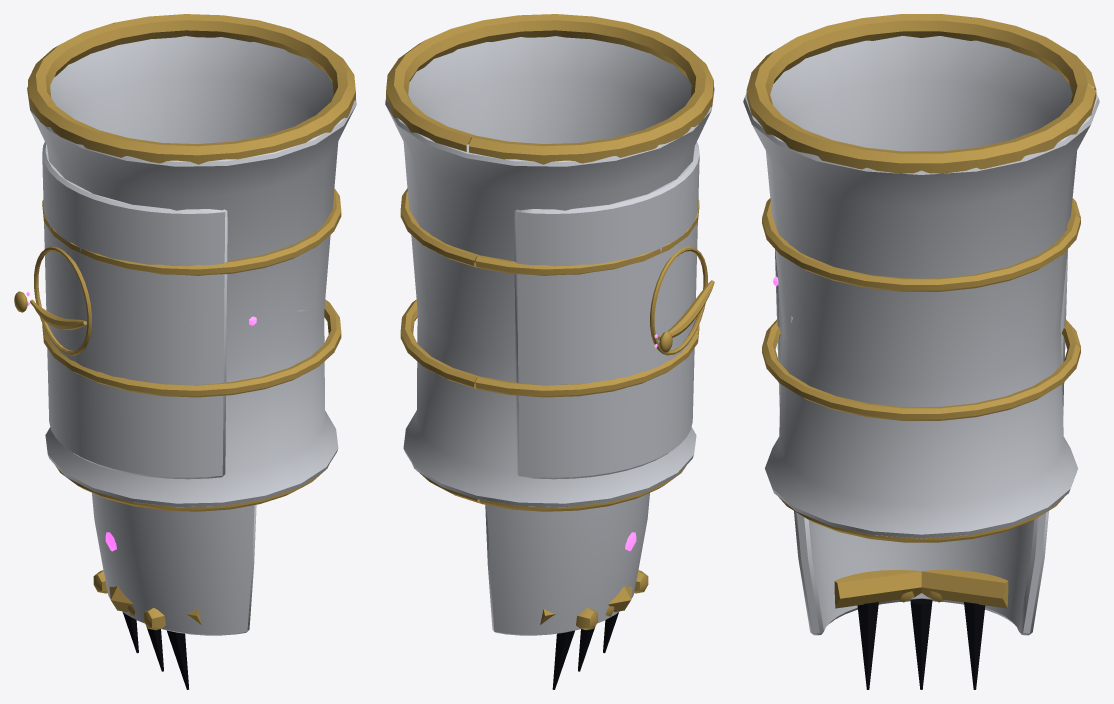
Rendered from esc_unmaker_vanguard_gloves_R.glb.
3 renders of one model, left to right at view 1: azimuth 30°, elevation 25°; view 2: azimuth 150°, elevation 25°; view 3: azimuth 270°, elevation 25°, orthographic. The views are drawn at different scales.
Parts seen in each view (by area): view 1: esc_unmaker_vanguard_gloves, AT_hand_R; view 2: esc_unmaker_vanguard_gloves, AT_hand_R; view 3: esc_unmaker_vanguard_gloves, AT_hand_R.
Part boxes in pixels (bbox=[...]): esc_unmaker_vanguard_gloves: bbox=[14, 14, 356, 511]; AT_hand_R: bbox=[92, 493, 256, 689]; esc_unmaker_vanguard_gloves: bbox=[385, 14, 714, 511]; AT_hand_R: bbox=[485, 493, 649, 689]; esc_unmaker_vanguard_gloves: bbox=[743, 14, 1099, 542]; AT_hand_R: bbox=[794, 511, 1048, 689].
Size of the model in its own units: 0.2009 by 0.385 by 0.2004.
